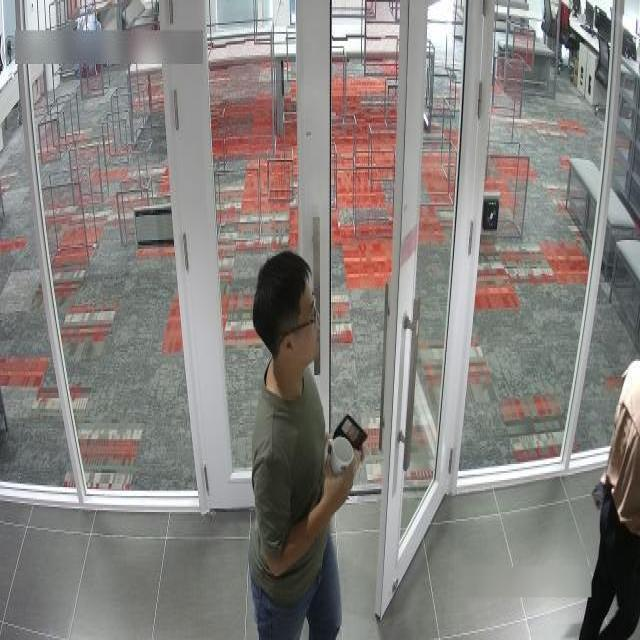bare_hand: (319, 436, 366, 537)
